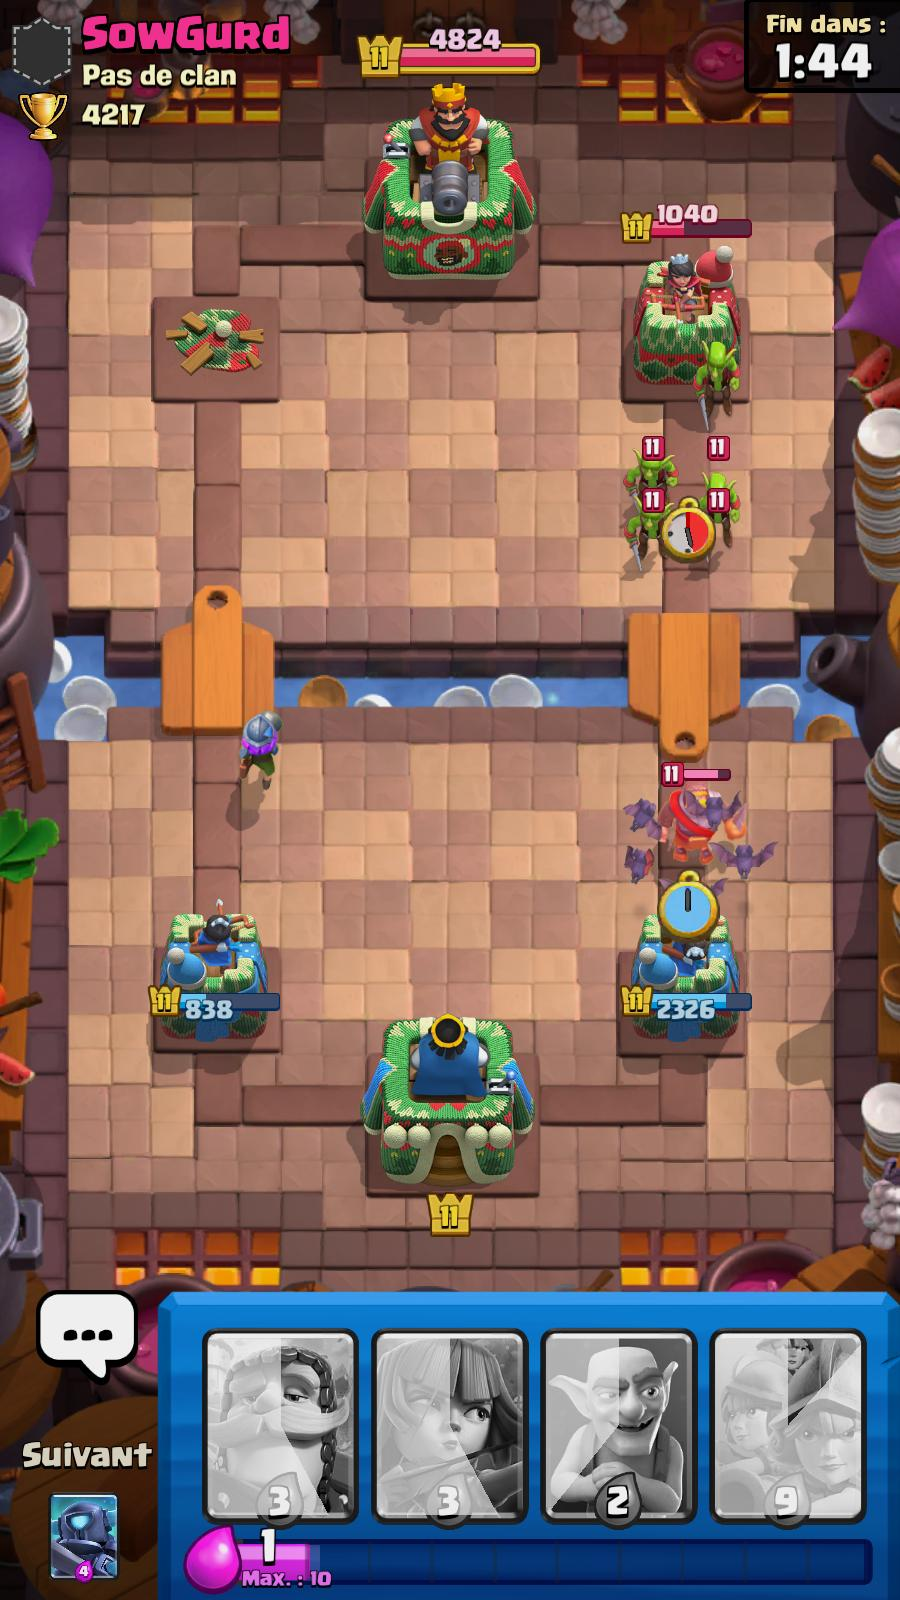bat: (681, 791, 746, 832), (622, 795, 664, 841), (713, 845, 778, 874), (654, 877, 733, 896), (622, 845, 654, 885)
chevalier: (659, 764, 749, 864)
gobelin: (696, 341, 741, 419), (630, 441, 676, 503), (632, 488, 670, 563), (703, 487, 744, 544)
mousquetaire: (237, 709, 285, 790)
